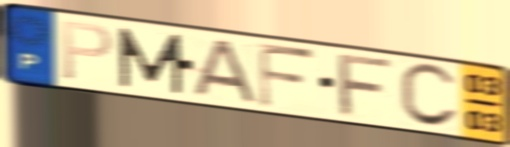A: (186, 38, 262, 106)
C: (397, 61, 462, 130)
F: (255, 40, 319, 111), (336, 53, 398, 119)
M: (115, 25, 186, 96)
P: (59, 19, 116, 84)
